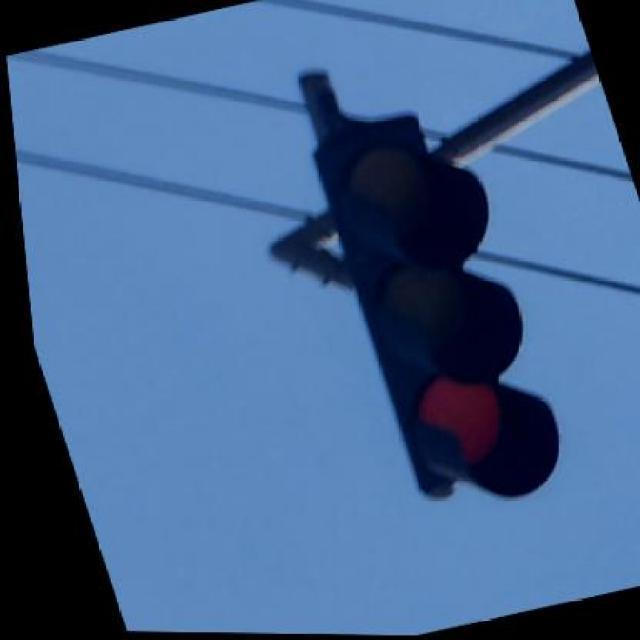red_light: (298, 70, 556, 495)
